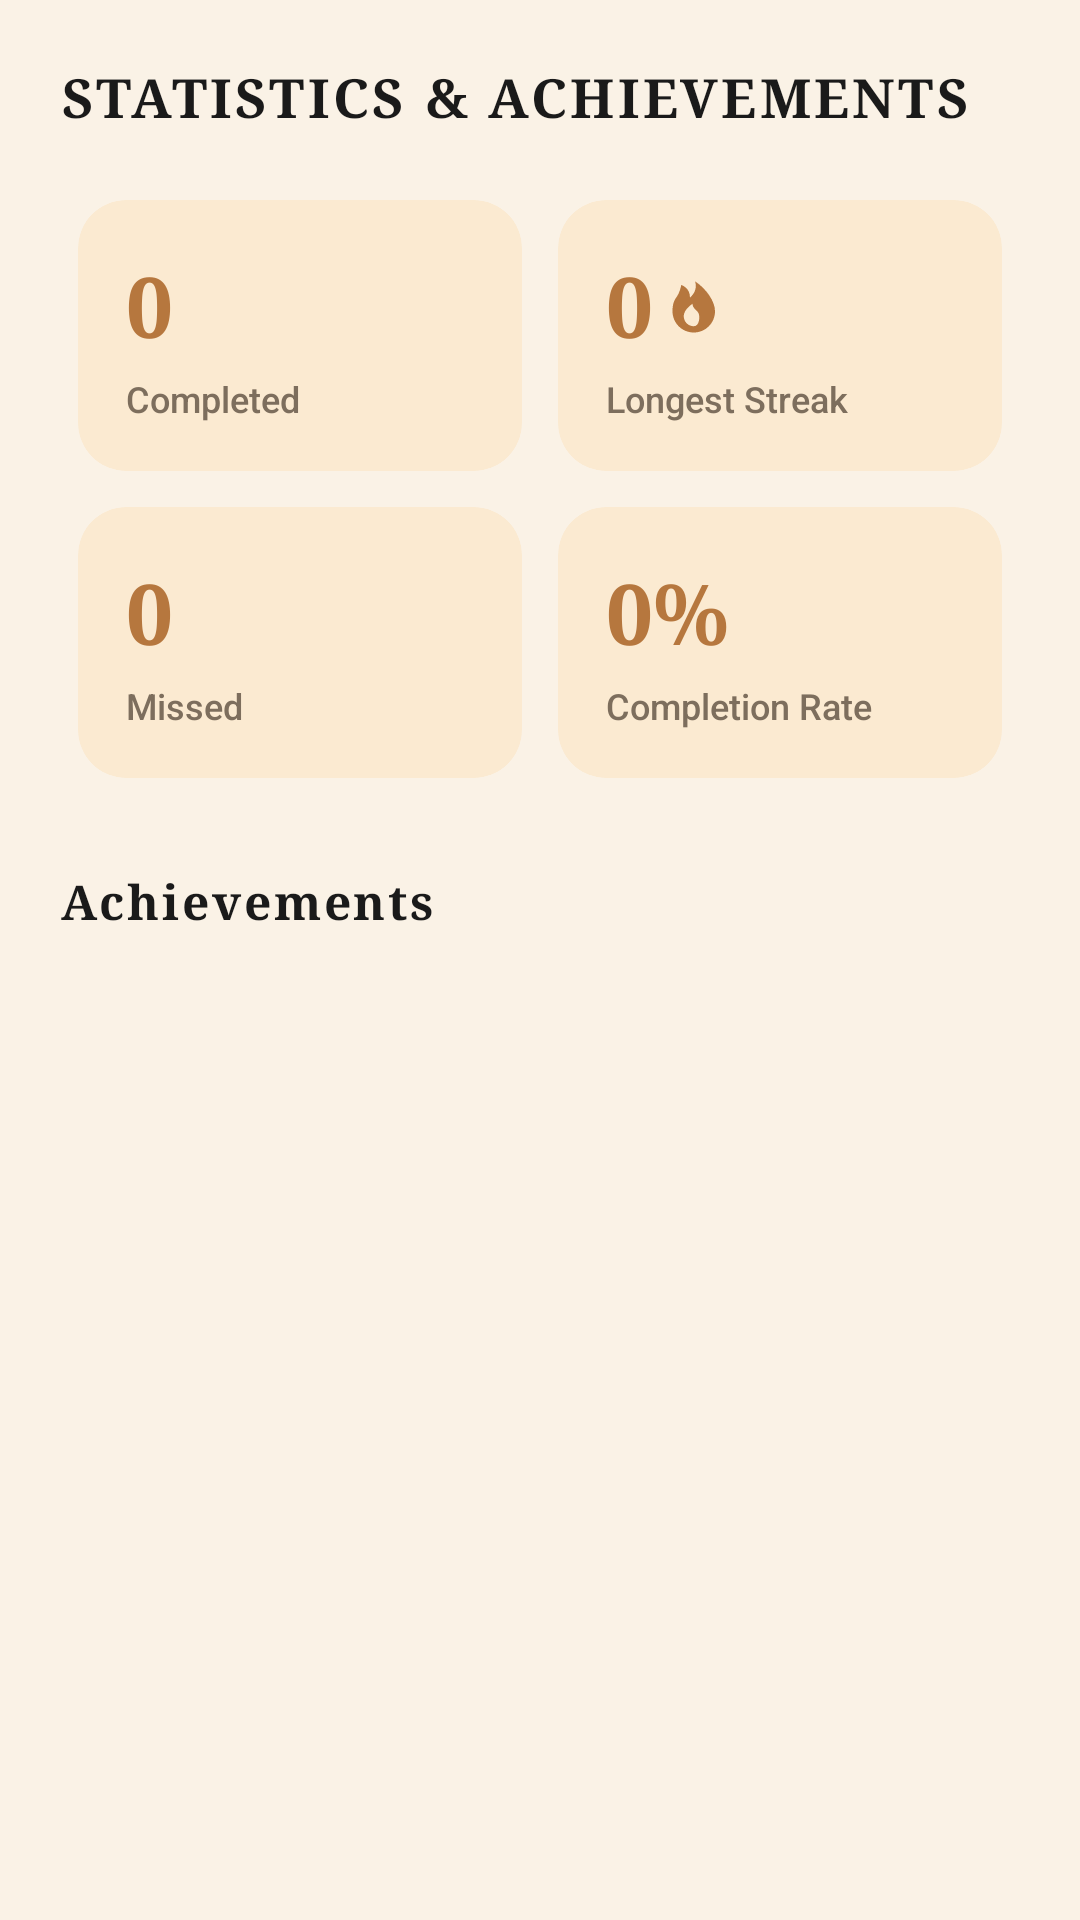

Icons on this 1080x1920 Android screen, each with the point to tap as (x=x, y=y):
flame: (x=693, y=307)
